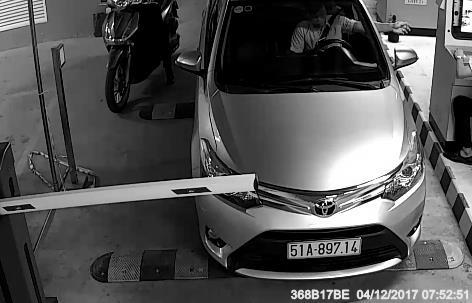License-plate: (284, 232, 367, 267)
